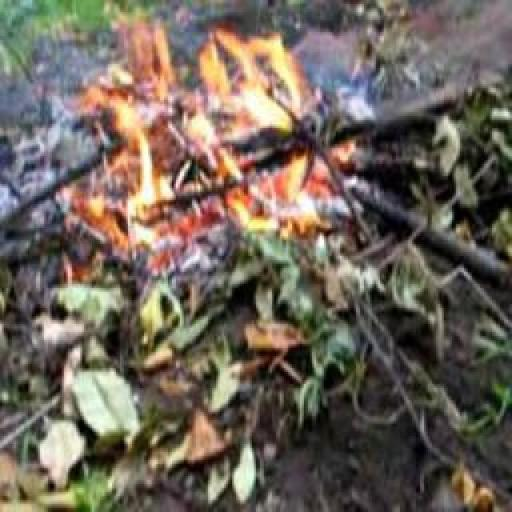smoke: (74, 22, 350, 250)
